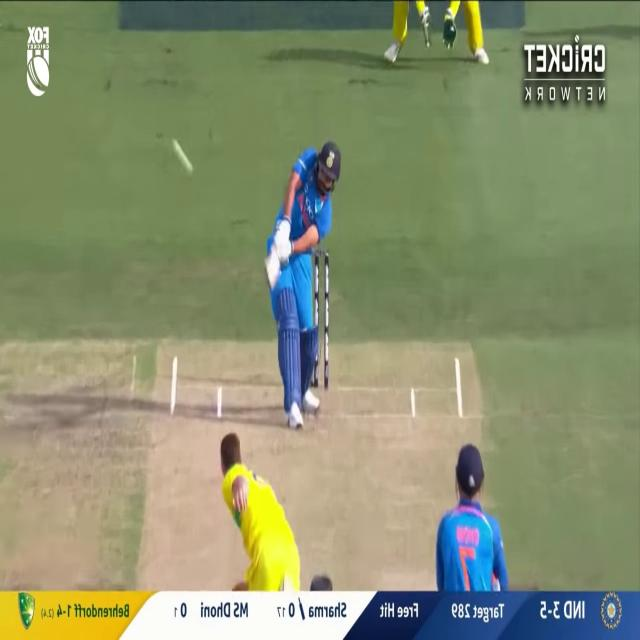ball: (170, 136, 192, 176)
stump: (312, 249, 329, 391)
